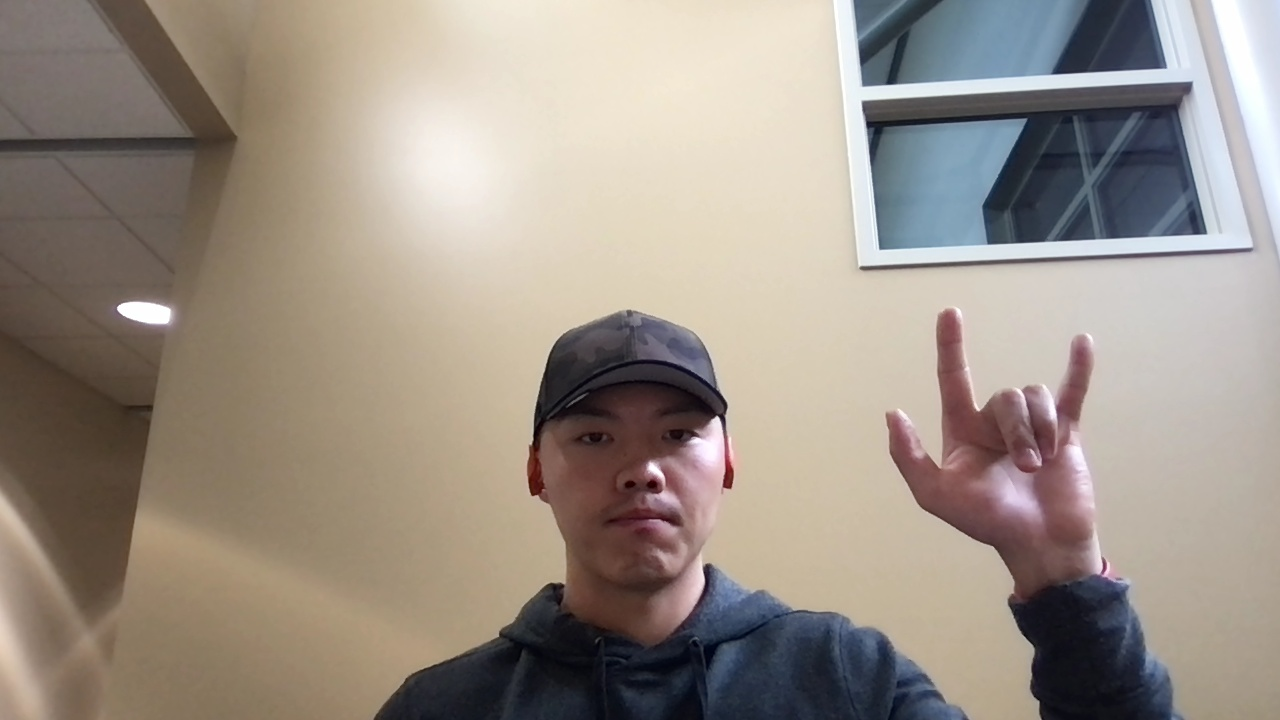I Love You: (883, 307, 1118, 544)
